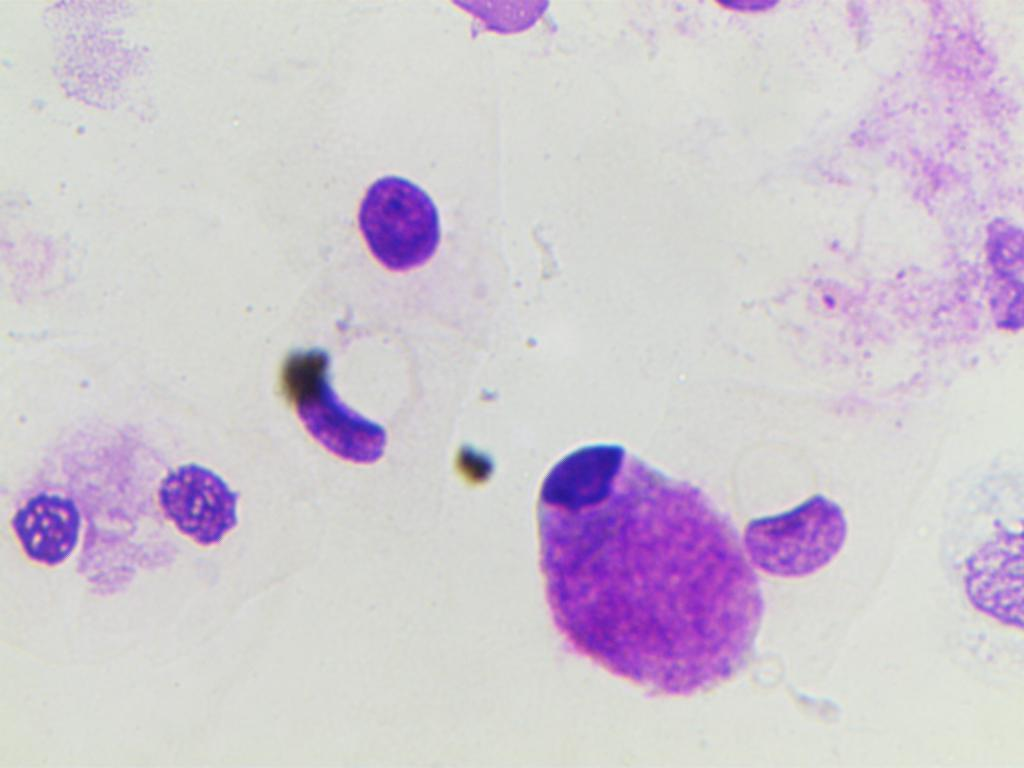artifact: (268, 347, 338, 400), (453, 438, 503, 492)
epithelial: (333, 138, 442, 283), (742, 486, 855, 587), (155, 448, 247, 565), (8, 491, 92, 560)
goblet_cell: (532, 435, 748, 699)
